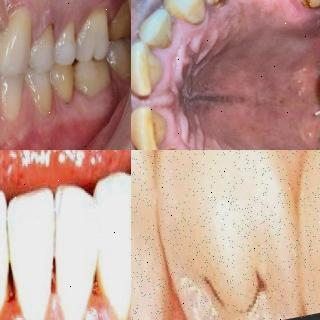cavities: (186, 236, 275, 320), (61, 90, 73, 117)
maligned: (7, 178, 53, 320), (53, 180, 101, 311)
plaque: (80, 5, 110, 46), (109, 0, 131, 38), (109, 40, 131, 74), (0, 31, 12, 65)
stains: (135, 113, 175, 150), (131, 51, 165, 90), (178, 1, 210, 31), (150, 23, 178, 55), (205, 0, 238, 18)
